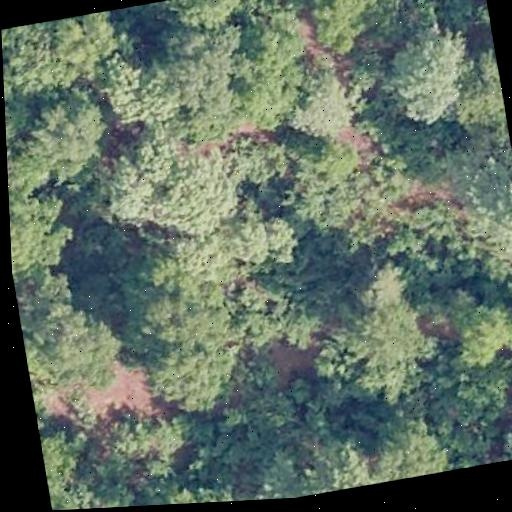tree-top: (105, 222, 259, 427), (88, 112, 248, 254), (245, 405, 461, 500), (303, 285, 441, 401), (15, 272, 131, 403), (150, 11, 261, 125), (372, 19, 477, 134), (1, 9, 129, 103), (432, 125, 512, 275), (222, 8, 322, 119), (283, 48, 369, 146), (19, 88, 113, 177), (286, 143, 374, 231), (39, 426, 121, 511), (92, 53, 175, 136), (445, 289, 512, 379), (235, 207, 309, 286), (8, 186, 80, 267), (111, 466, 245, 507), (143, 0, 267, 39), (2, 54, 36, 191), (302, 0, 376, 52), (234, 129, 295, 188), (494, 406, 512, 461)
